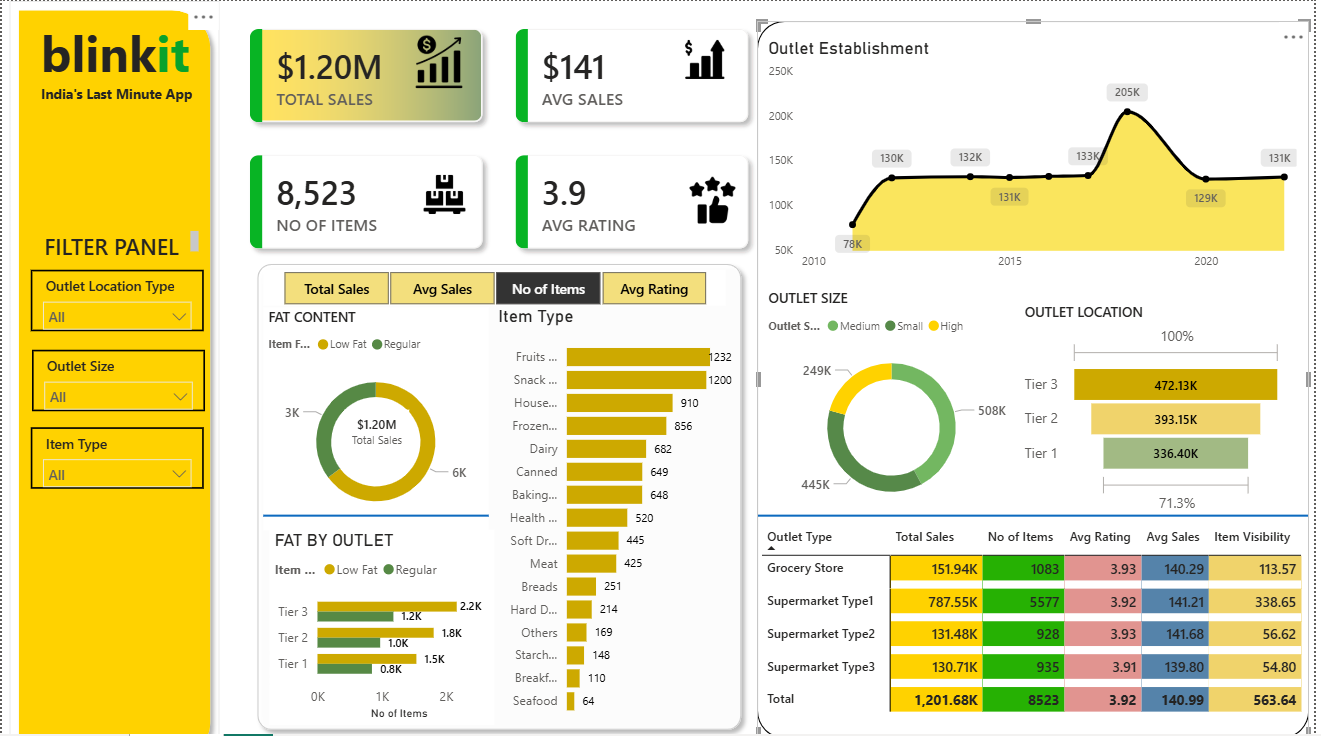

The page's visual inventory and layout, read from the dashboard file:
{"tool":"powerbi","page":{"name":"Page 1","canvas":[1280,720],"ordinal":0},"visuals":[{"type":"shape","box":[7.5,0,205,750],"z":0},{"type":"textbox","box":[32.4,12.2,158.1,82.4],"z":1000},{"type":"textbox","box":[32.4,77,158.1,55.4],"z":2000},{"type":"cardVisual","fields":{"Data":["BlinkIT Grocery Data.Total Sales","BlinkIT Grocery Data.Avg Sales","BlinkIT Grocery Data.No of Items","BlinkIT Grocery Data.Avg Rating"]},"box":[214.4,0,540,268.3],"z":3000},{"type":"image","box":[398,33.5,57.5,53],"z":4000},{"type":"image","box":[655,36,61,41],"z":5000},{"type":"image","box":[407,168,49,41],"z":6000},{"type":"image","box":[671,168,45,52],"z":7000},{"type":"shape","box":[240,247.5,490,472.5],"z":8000},{"type":"donutChart","title":"FAT CONTENT","fields":{"Y":["BlinkIT Grocery Data.Avg Rating"],"Category":["BlinkIT Grocery Data.Item Fat Content"]},"box":[255,298.8,220,217.5],"z":9000},{"type":"cardVisual","fields":{"Data":["BlinkIT Grocery Data.Total Sales"]},"box":[328.8,393.8,73.8,52.5],"z":10000},{"type":"clusteredBarChart","title":"FAT BY OUTLET","fields":{"Y":["BlinkIT Grocery Data.Avg Rating"],"Series":["BlinkIT Grocery Data.Item Fat Content"],"Category":["BlinkIT Grocery Data.Outlet Location Type"]},"box":[260.5,516,218.9,190.8],"z":11000},{"type":"slicer","fields":{"Values":["Metrics.Metrics"]},"box":[254.4,262.2,451.1,35.6],"z":12000},{"type":"clusteredBarChart","title":"Item Type","fields":{"Y":["BlinkIT Grocery Data.Avg Rating"],"Category":["BlinkIT Grocery Data.Item Type"]},"box":[478.9,297.8,237.8,408.9],"z":13000},{"type":"lineChart","title":"Outlet Establishment","fields":{"Category":["BlinkIT Grocery Data.Outlet Establishment Year"],"Y":["Sum(BlinkIT Grocery Data.Sales)"]},"box":[742.2,35.6,525.6,235.6],"z":14000},{"type":"donutChart","title":"OUTLET SIZE","fields":{"Y":["BlinkIT Grocery Data.Total Sales"],"Category":["BlinkIT Grocery Data.Outlet Size"]},"box":[742.3,280,250.7,226.2],"z":15000},{"type":"funnel","title":"OUTLET LOCATION","fields":{"Category":["BlinkIT Grocery Data.Outlet Location Type"],"Y":["Sum(BlinkIT Grocery Data.Sales)"]},"box":[992.9,293.5,261.7,210.3],"z":16000},{"type":"shape","box":[255,466.2,220,72.5],"z":17000},{"type":"pivotTable","fields":{"Values":["BlinkIT Grocery Data.Total Sales","BlinkIT Grocery Data.No of Items","BlinkIT Grocery Data.Avg Rating","BlinkIT Grocery Data.Avg Sales","Sum(BlinkIT Grocery Data.Item Visibility)"],"Rows":["BlinkIT Grocery Data.Outlet Type"]},"box":[736.2,506.2,537.5,213.8],"z":18000},{"type":"slicer","fields":{"Values":["BlinkIT Grocery Data.Outlet Location Type"]},"box":[29.3,250,168.3,59.8],"z":19000},{"type":"slicer","fields":{"Values":["BlinkIT Grocery Data.Outlet Size"]},"box":[29.3,346.3,168.3,59.8],"z":20000},{"type":"slicer","fields":{"Values":["BlinkIT Grocery Data.Item Type"]},"box":[29.3,435.4,168.3,61],"z":21000},{"type":"textbox","box":[30.5,193.9,159.8,34.1],"z":22000},{"type":"shape","box":[736.2,446.2,537.7,111.5],"z":24000},{"type":"shape","box":[736.6,220.7,537.8,112.2],"z":25000}]}

Visuals, with their boxes in screenshot pixels (x1, y1, x2, y2), scaled from the page's 1280x720 canvas onto the 1321x736 screenshot:
shape: 8 0 219 735
textbox: 33 12 197 97
textbox: 33 79 197 135
cardVisual - BlinkIT Grocery Data.Total Sales x BlinkIT Grocery Data.Avg Sales: 221 0 779 274
image: 411 34 470 88
image: 676 37 739 79
image: 420 172 471 214
image: 692 172 739 225
shape: 248 253 753 735
"FAT CONTENT" donutChart: 263 305 490 528
cardVisual - BlinkIT Grocery Data.Total Sales: 339 403 415 456
"FAT BY OUTLET" clusteredBarChart: 269 527 495 723
slicer - Metrics.Metrics: 263 268 728 304
"Item Type" clusteredBarChart: 494 304 740 722
"Outlet Establishment" lineChart: 766 36 1308 277
"OUTLET SIZE" donutChart: 766 286 1025 517
"OUTLET LOCATION" funnel: 1025 300 1295 515
shape: 263 477 490 551
pivotTable - BlinkIT Grocery Data.Total Sales x BlinkIT Grocery Data.No of Items: 760 517 1314 735
slicer - BlinkIT Grocery Data.Outlet Location Type: 30 256 204 317
slicer - BlinkIT Grocery Data.Outlet Size: 30 354 204 415
slicer - BlinkIT Grocery Data.Item Type: 30 445 204 507
textbox: 31 198 196 233
shape: 760 456 1315 570
shape: 760 226 1315 340
